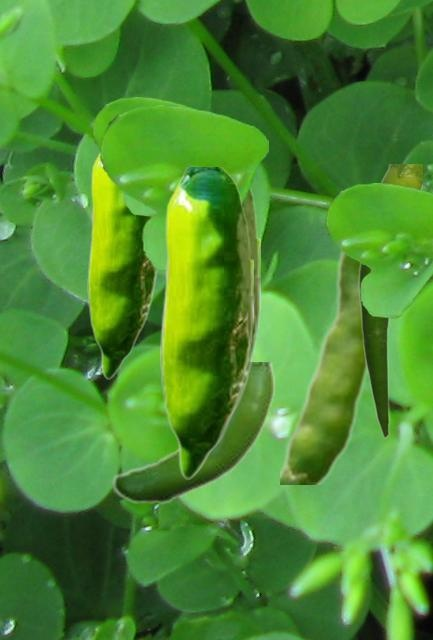green_chili: (160, 167, 252, 478), (160, 181, 259, 469), (111, 362, 273, 504), (280, 248, 368, 483), (358, 164, 421, 437), (87, 149, 157, 378)
